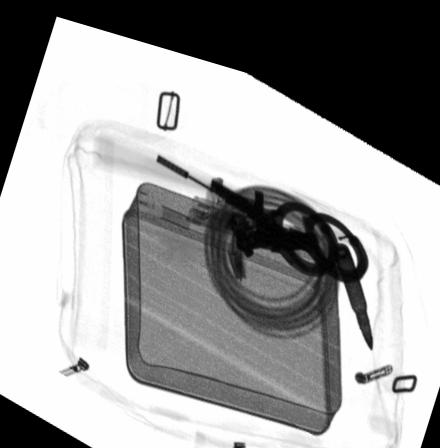Baton: (186, 182, 341, 241)
Bullet: (330, 220, 372, 331)
Gun: (153, 143, 321, 231)
HandCuffs: (225, 181, 368, 261)
